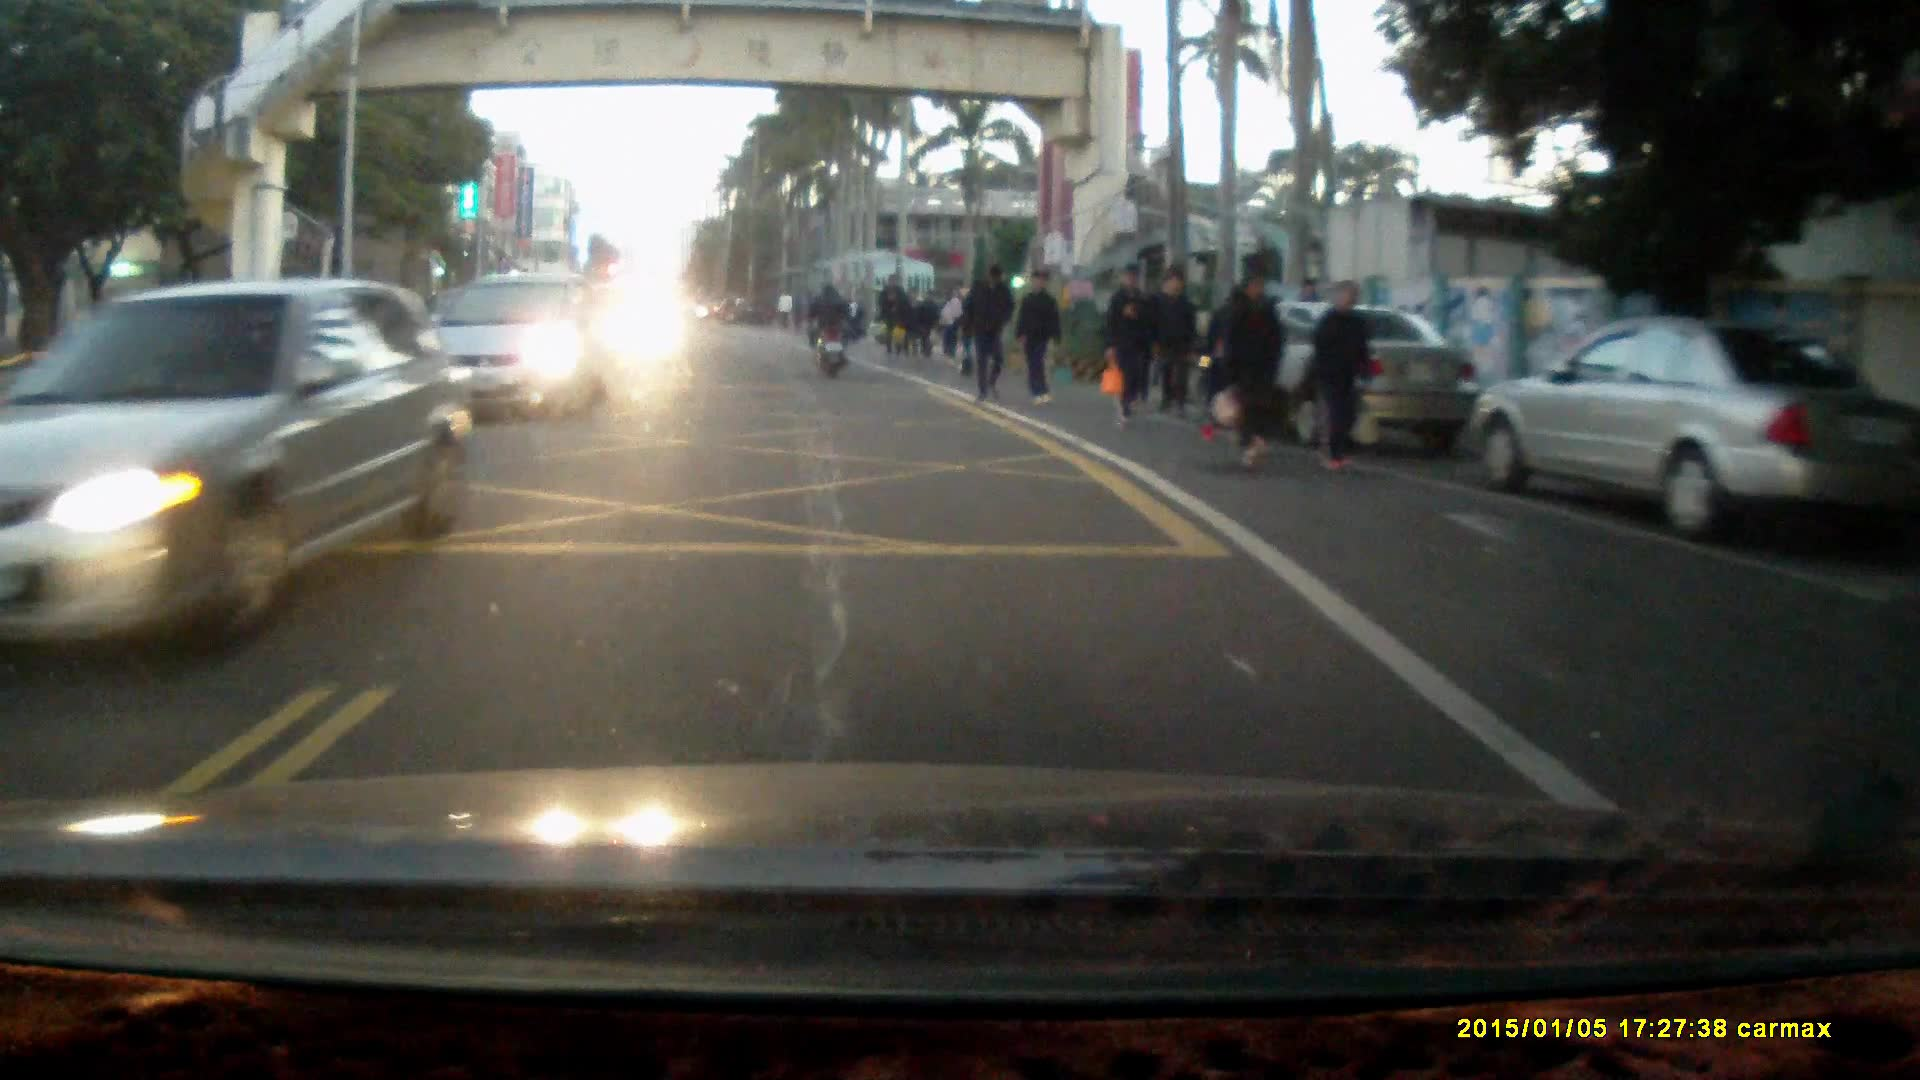pedestrian: (1304, 276, 1377, 474), (1223, 269, 1288, 470), (1101, 261, 1155, 426), (967, 271, 1020, 408), (1161, 263, 1206, 420), (1015, 267, 1065, 401), (874, 275, 905, 362), (898, 284, 929, 358), (936, 286, 964, 367)
rider: (807, 279, 854, 381)
vehicle: (3, 278, 468, 670), (1467, 320, 1920, 542), (1198, 301, 1482, 448), (404, 271, 615, 424)
